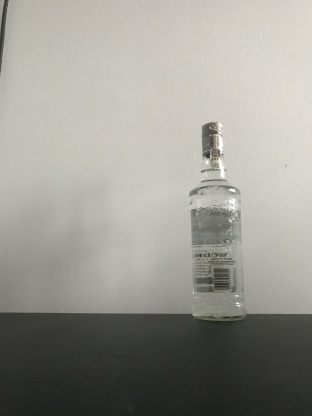nakretka: (199, 118, 225, 158)
